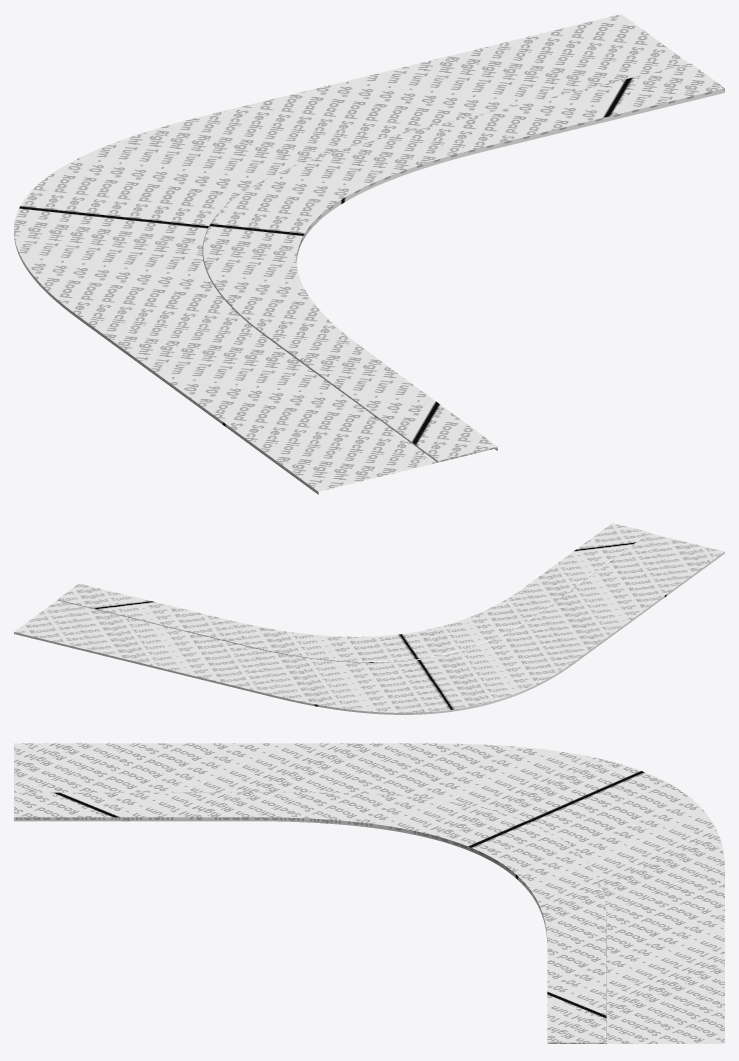
Rendered from Right_Turn.FBX.
3 views of the same model, one above another, from view 1: azimuth 30°, elevation 25°; view 2: azimuth 150°, elevation 25°; view 3: azimuth 270°, elevation 25° (orthographic). The views are drawn at different scales.
Visible parts, largest first — view 1: Right_Turn; view 2: Right_Turn; view 3: Right_Turn.
Boxes of the visible parts, bbox=[...] form: Right_Turn: bbox=[14, 14, 724, 494]; Right_Turn: bbox=[14, 523, 724, 714]; Right_Turn: bbox=[14, 743, 724, 1043].
Bounding box in the file's own units: 4800 × 30 × 4800.
2 materials, 2 textured.
